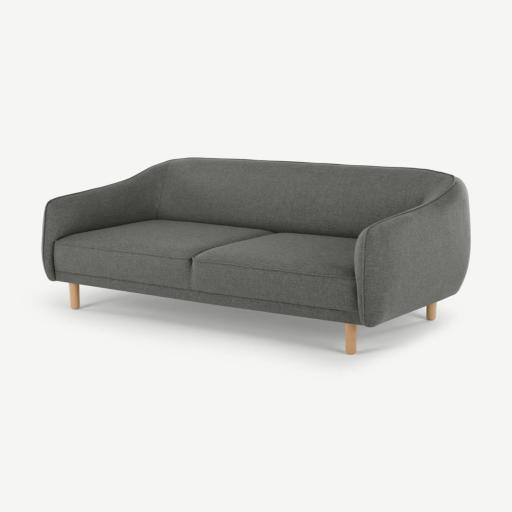back_cushion: (146, 158, 452, 237)
base: (60, 273, 358, 323)
left_arm: (355, 178, 469, 327)
legs: (345, 323, 357, 354), (69, 283, 80, 309), (427, 305, 436, 320)
right_arm: (42, 162, 169, 280)
seat_cushion: (54, 220, 358, 316)
two-seater: (0, 0, 511, 512)
